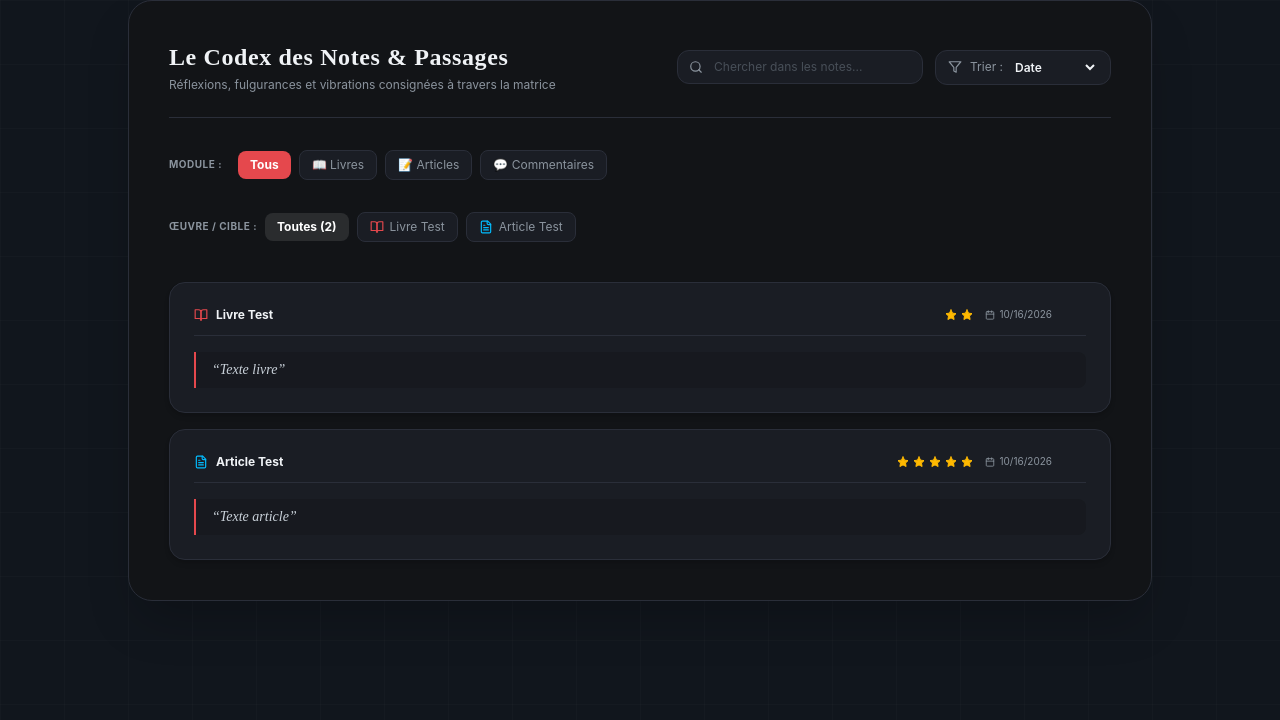
Scenario: UI & Logique : UniversalAnnotationsView (Codex Universel des Notes) › 🟢 doit filtrer les notes par type (ex: Articles uniquement)
This screenshot has width=1280, height=720.
Expected: the text "Livre Test" in the row of "Œuvre / Cible :" is shown, [390,219,445,234]
Expected: the text "Article Test" in the row of "Œuvre / Cible :" is shown, [499,219,563,234]
// Clic sur le filtre "Articles"
Click the button "📝 Articles".
click(429, 165)  # box [385,150,472,180]
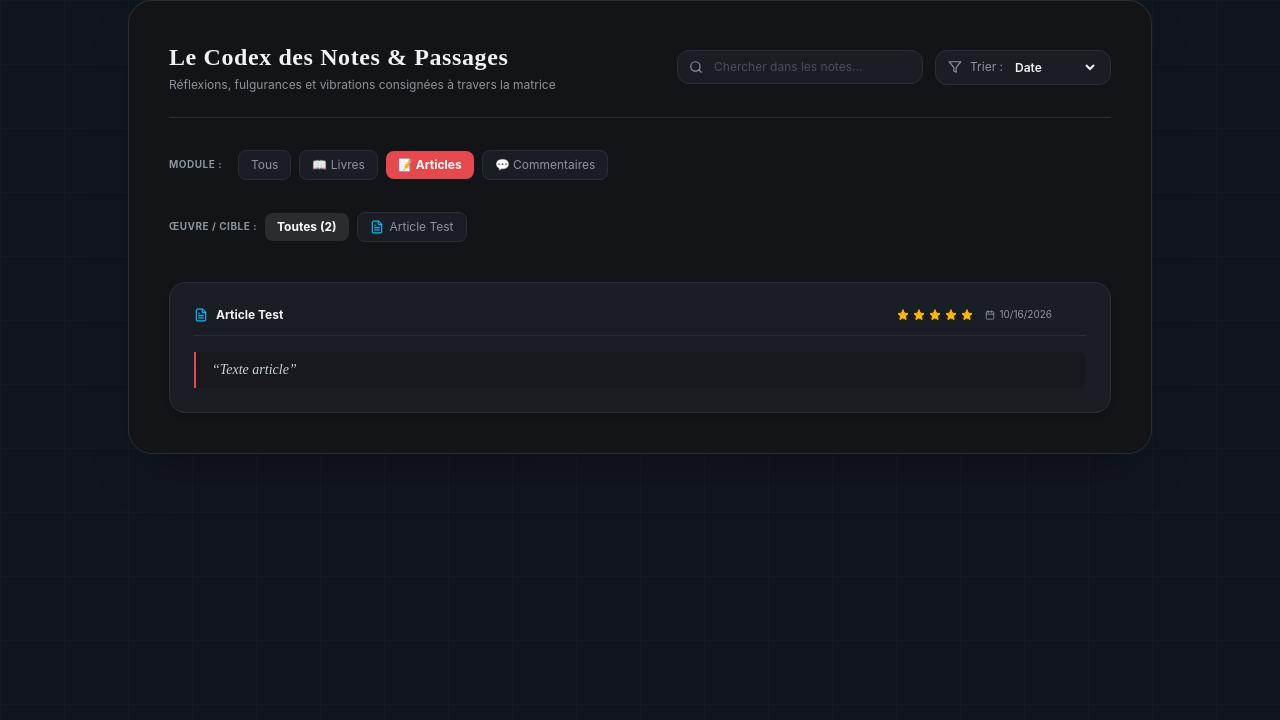
Expected: the text "Article Test" in the row of "Œuvre / Cible :" is shown, [390,219,454,234]
Expected: the text "Texte livre" is gone
